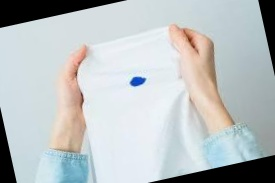ink: (128, 75, 148, 88)
